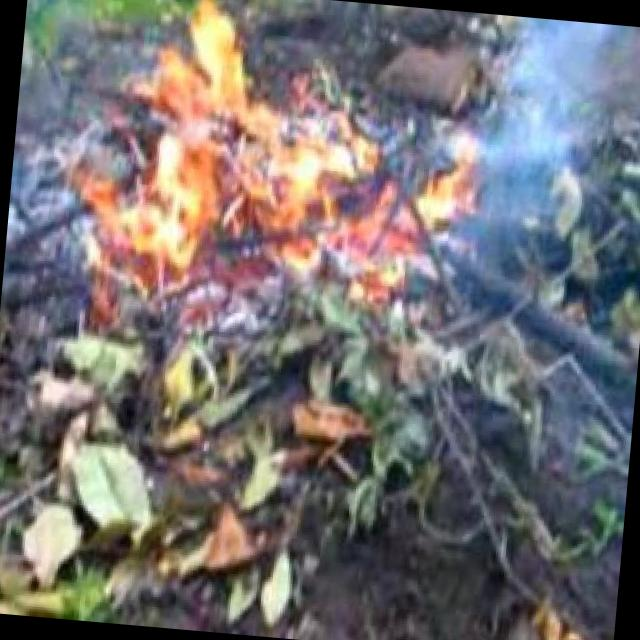Fire: (41, 0, 507, 361)
